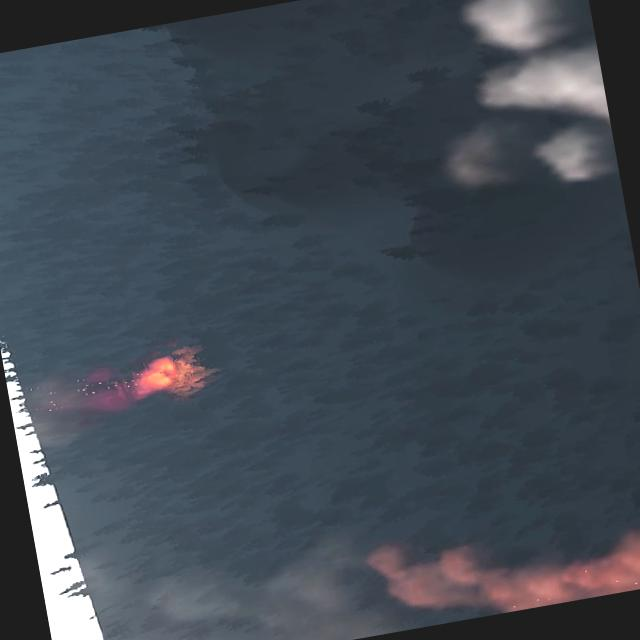fire: (134, 355, 180, 395)
smoke: (127, 479, 640, 640), (408, 0, 618, 201), (23, 362, 137, 448)
